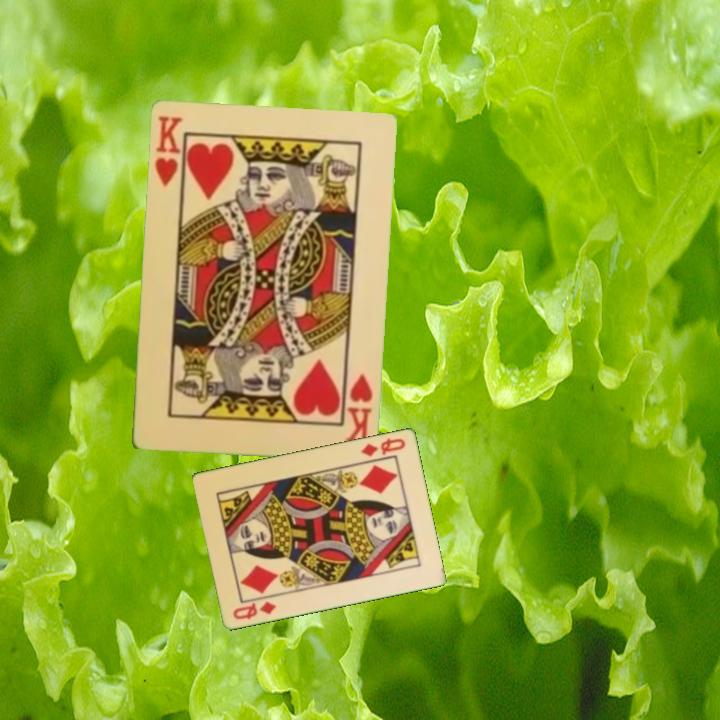Kh: (151, 111, 187, 194), (341, 370, 375, 446)
Qd: (358, 434, 409, 459), (230, 597, 279, 622)
